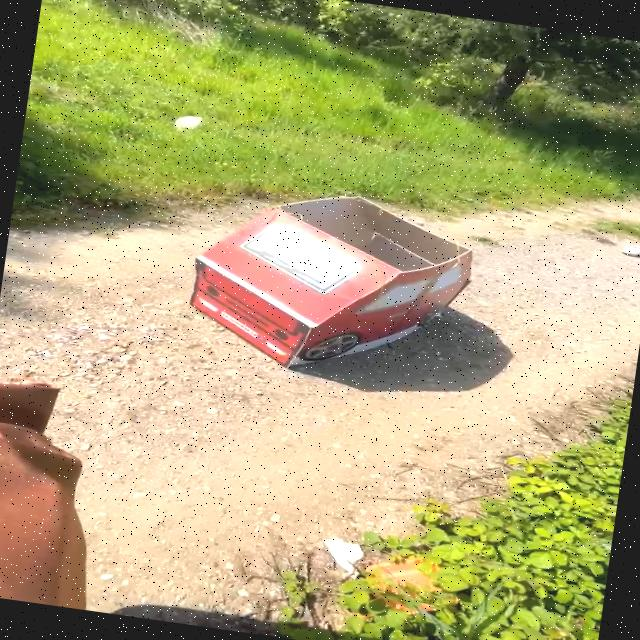red_car: (152, 160, 512, 411)
